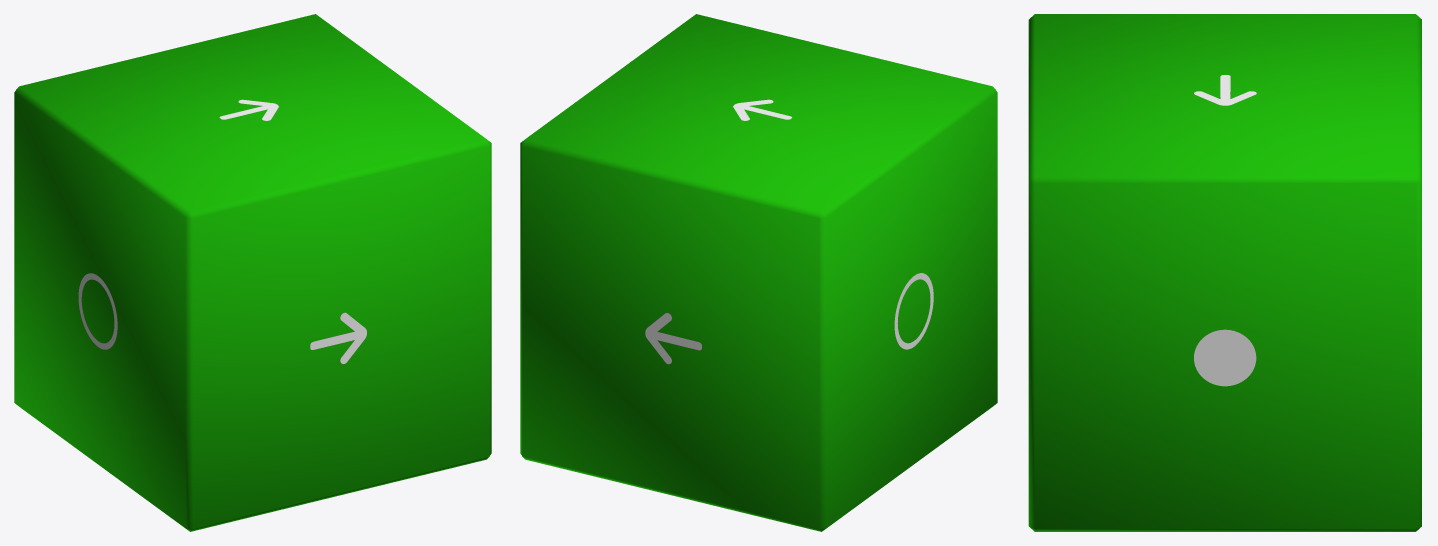
Rendered from BigBoxTapFlowBox_3_3_3_Clean_test2.fbx.
3 views of the same model, side by side, from view 1: azimuth 30°, elevation 25°; view 2: azimuth 150°, elevation 25°; view 3: azimuth 270°, elevation 25° (orthographic). The views are drawn at different scales.
Parts seen in each view (by area): view 1: BigBoxTapFlowBox_3_3_3_Clean_test; view 2: BigBoxTapFlowBox_3_3_3_Clean_test; view 3: BigBoxTapFlowBox_3_3_3_Clean_test.
Part boxes in pixels (x1,y1,x2,y2): BigBoxTapFlowBox_3_3_3_Clean_test: (14, 14, 491, 531); BigBoxTapFlowBox_3_3_3_Clean_test: (520, 14, 997, 531); BigBoxTapFlowBox_3_3_3_Clean_test: (1028, 14, 1421, 531).
Bounding box in the file's own units: 3.18 × 3.18 × 3.18.
Materials: 1 (1 with a texture image).
